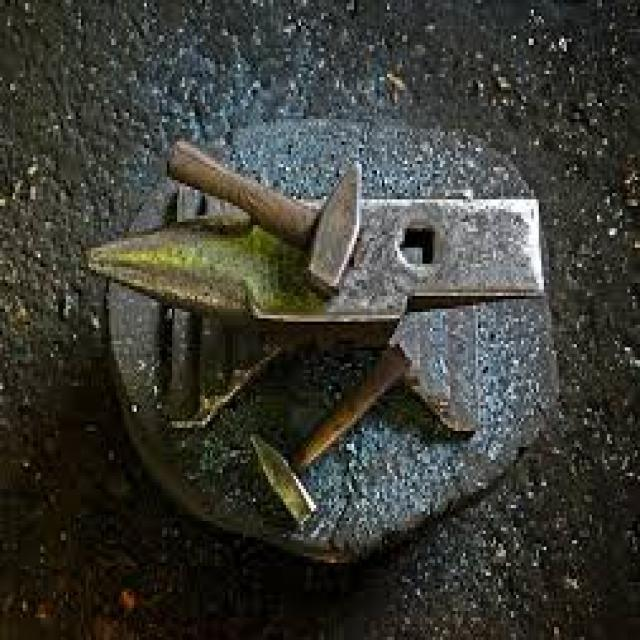hammer: (246, 331, 442, 531), (158, 142, 386, 286)
